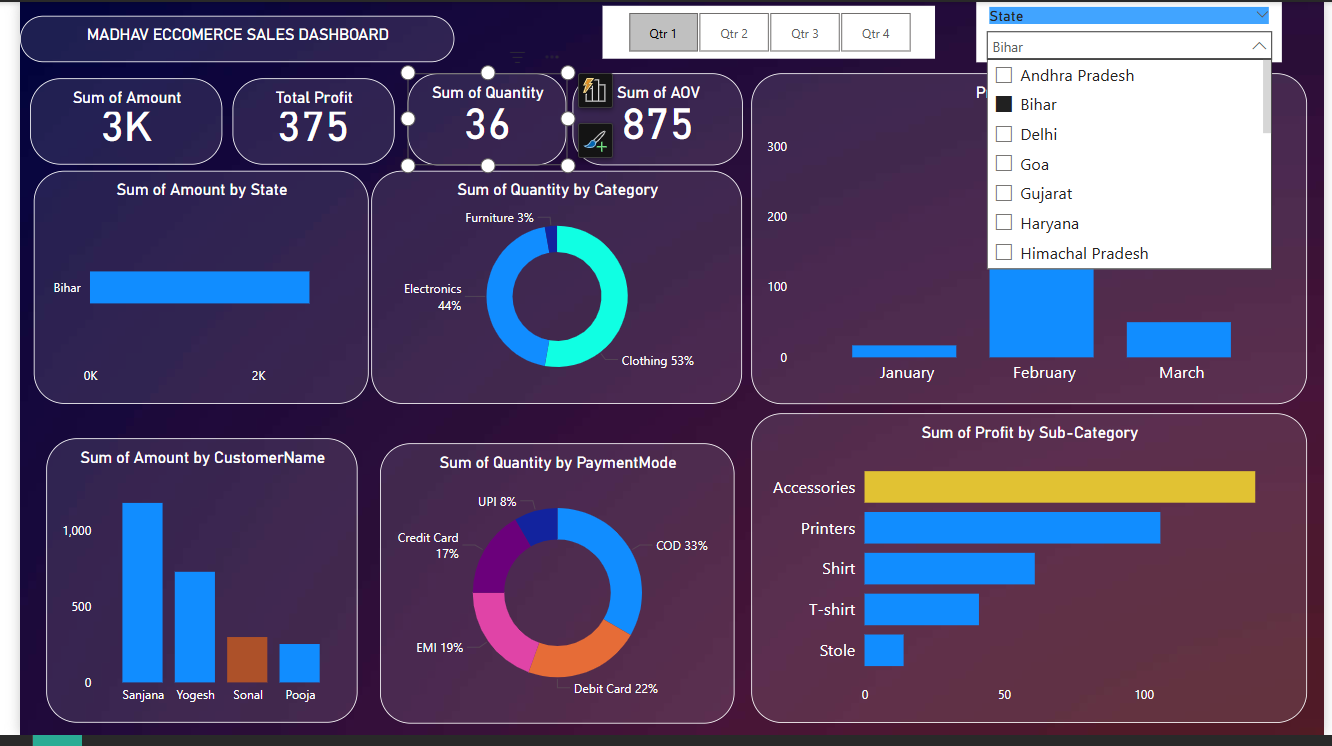

What the dashboard file says about the page in this screenshot:
{"tool":"powerbi","page":{"name":"Page 1","canvas":[1280,720],"ordinal":0},"visuals":[{"type":"textbox","title":"MADHAV ECCOMERCE SALES DASHBOARD","box":[0,13.7,426,45.2],"z":0},{"type":"columnChart","title":"Profit by Month","fields":{"Category":["Order.Order Date.Variation.Date Hierarchy.Month"],"Y":["Details.Profit"]},"box":[717.8,69.9,545.2,324.7],"z":1000},{"type":"barChart","fields":{"Category":["Details.Sub-Category"],"Y":["Details.Profit"]},"box":[717.8,404.1,545.2,304.1],"z":2000},{"type":"donutChart","fields":{"Category":["Details.Category"],"Y":["Details.Quantity"]},"box":[345.2,165.8,364.4,228.8],"z":3000},{"type":"donutChart","fields":{"Y":["Details.Quantity"],"Category":["Details.PaymentMode"]},"box":[353.4,432.9,347.9,275.3],"z":4000},{"type":"card","title":"Sum of Amount","fields":{"Values":["Details.Amount"]},"box":[9.6,75.3,189,84.9],"z":5000},{"type":"card","title":"Sum of Quantity","fields":{"Values":["Details.Quantity"]},"box":[380.8,69.9,156.2,90.4],"z":6000},{"type":"card","title":"Sum of AOV","fields":{"Values":["Details.AOV"]},"box":[542.5,69.9,167.1,90.4],"z":7000},{"type":"card","title":"Total Profit","fields":{"Values":["Details.Profit"]},"box":[208.2,75.3,158.9,84.9],"z":8000},{"type":"barChart","fields":{"Category":["Order.State"],"Y":["Details.Amount"]},"box":[13.7,165.8,328.8,228.8],"z":9000},{"type":"columnChart","fields":{"Category":["Order.CustomerName"],"Y":["Details.Amount"]},"box":[26,428.8,305.5,279.5],"z":10000},{"type":"slicer","fields":{"Values":["Order.Order Date.Variation.Date Hierarchy.Quarter"]},"box":[571.2,4.1,326,52.1],"z":10001},{"type":"slicer","fields":{"Values":["Order.State"]},"box":[938.4,0,300,58.9],"z":10002}]}

Visuals, with their boxes in screenshot pixels (x1, y1, x2, y2), scaled from the page's 1280x720 canvas onto the 1332x746 screenshot:
"MADHAV ECCOMERCE SALES DASHBOARD" textbox: box(0, 14, 443, 61)
"Profit by Month" columnChart: box(747, 72, 1314, 409)
barChart - Details.Sub-Category x Details.Profit: box(747, 419, 1314, 734)
donutChart - Details.Category x Details.Quantity: box(359, 172, 738, 409)
donutChart - Details.Quantity x Details.PaymentMode: box(368, 449, 730, 734)
"Sum of Amount" card: box(10, 78, 207, 166)
"Sum of Quantity" card: box(396, 72, 559, 166)
"Sum of AOV" card: box(565, 72, 738, 166)
"Total Profit" card: box(217, 78, 382, 166)
barChart - Order.State x Details.Amount: box(14, 172, 356, 409)
columnChart - Order.CustomerName x Details.Amount: box(27, 444, 345, 734)
slicer - Order.Order Date.Variation.Date Hierarchy.Quarter: box(594, 4, 934, 58)
slicer - Order.State: box(977, 0, 1289, 61)
